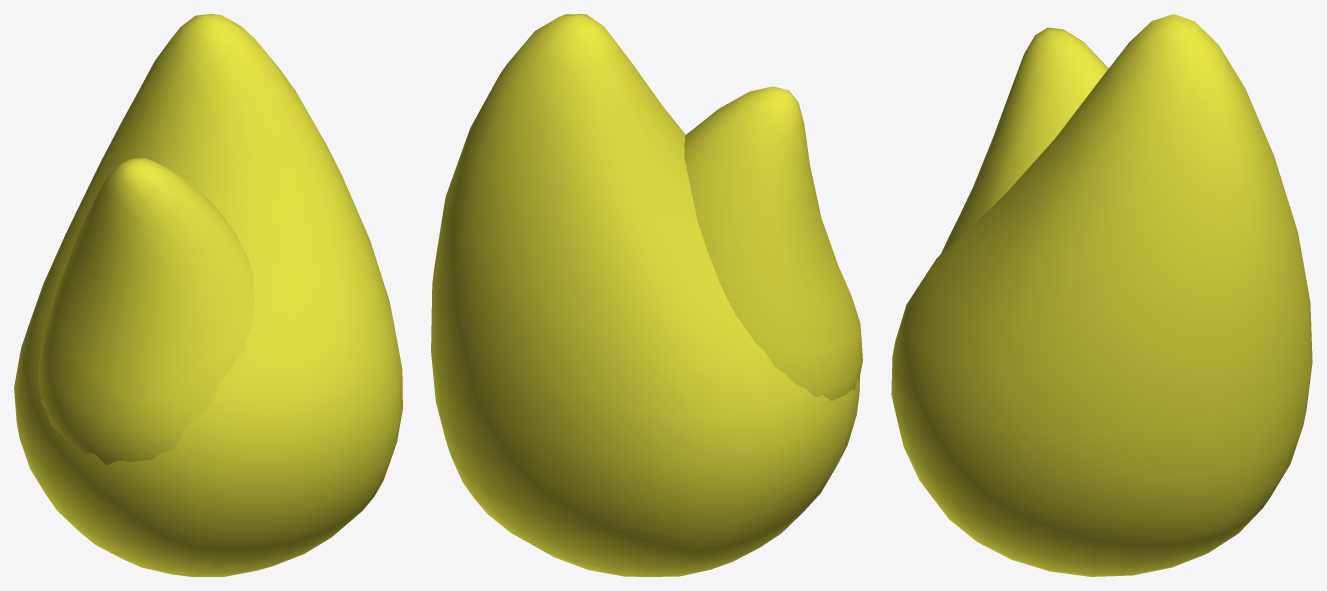
Rendered from model_fire.fbx.
The picture shows the model from 3 angles, left to right: view 1: azimuth 30°, elevation 25°; view 2: azimuth 150°, elevation 25°; view 3: azimuth 270°, elevation 25°; orthographic projection. The views are drawn at different scales.
Parts seen in each view (by area): view 1: Cylinder.001; view 2: Cylinder.001; view 3: Cylinder.001.
Boxes of the visible parts, left/top/right/bottom form: Cylinder.001: left=14, top=14, right=402, bottom=576; Cylinder.001: left=431, top=14, right=862, bottom=576; Cylinder.001: left=891, top=14, right=1312, bottom=576.
Bounding box in the file's own units: 0.9174 × 1.34 × 0.9195.
